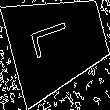L_E: (33, 20, 83, 65)
